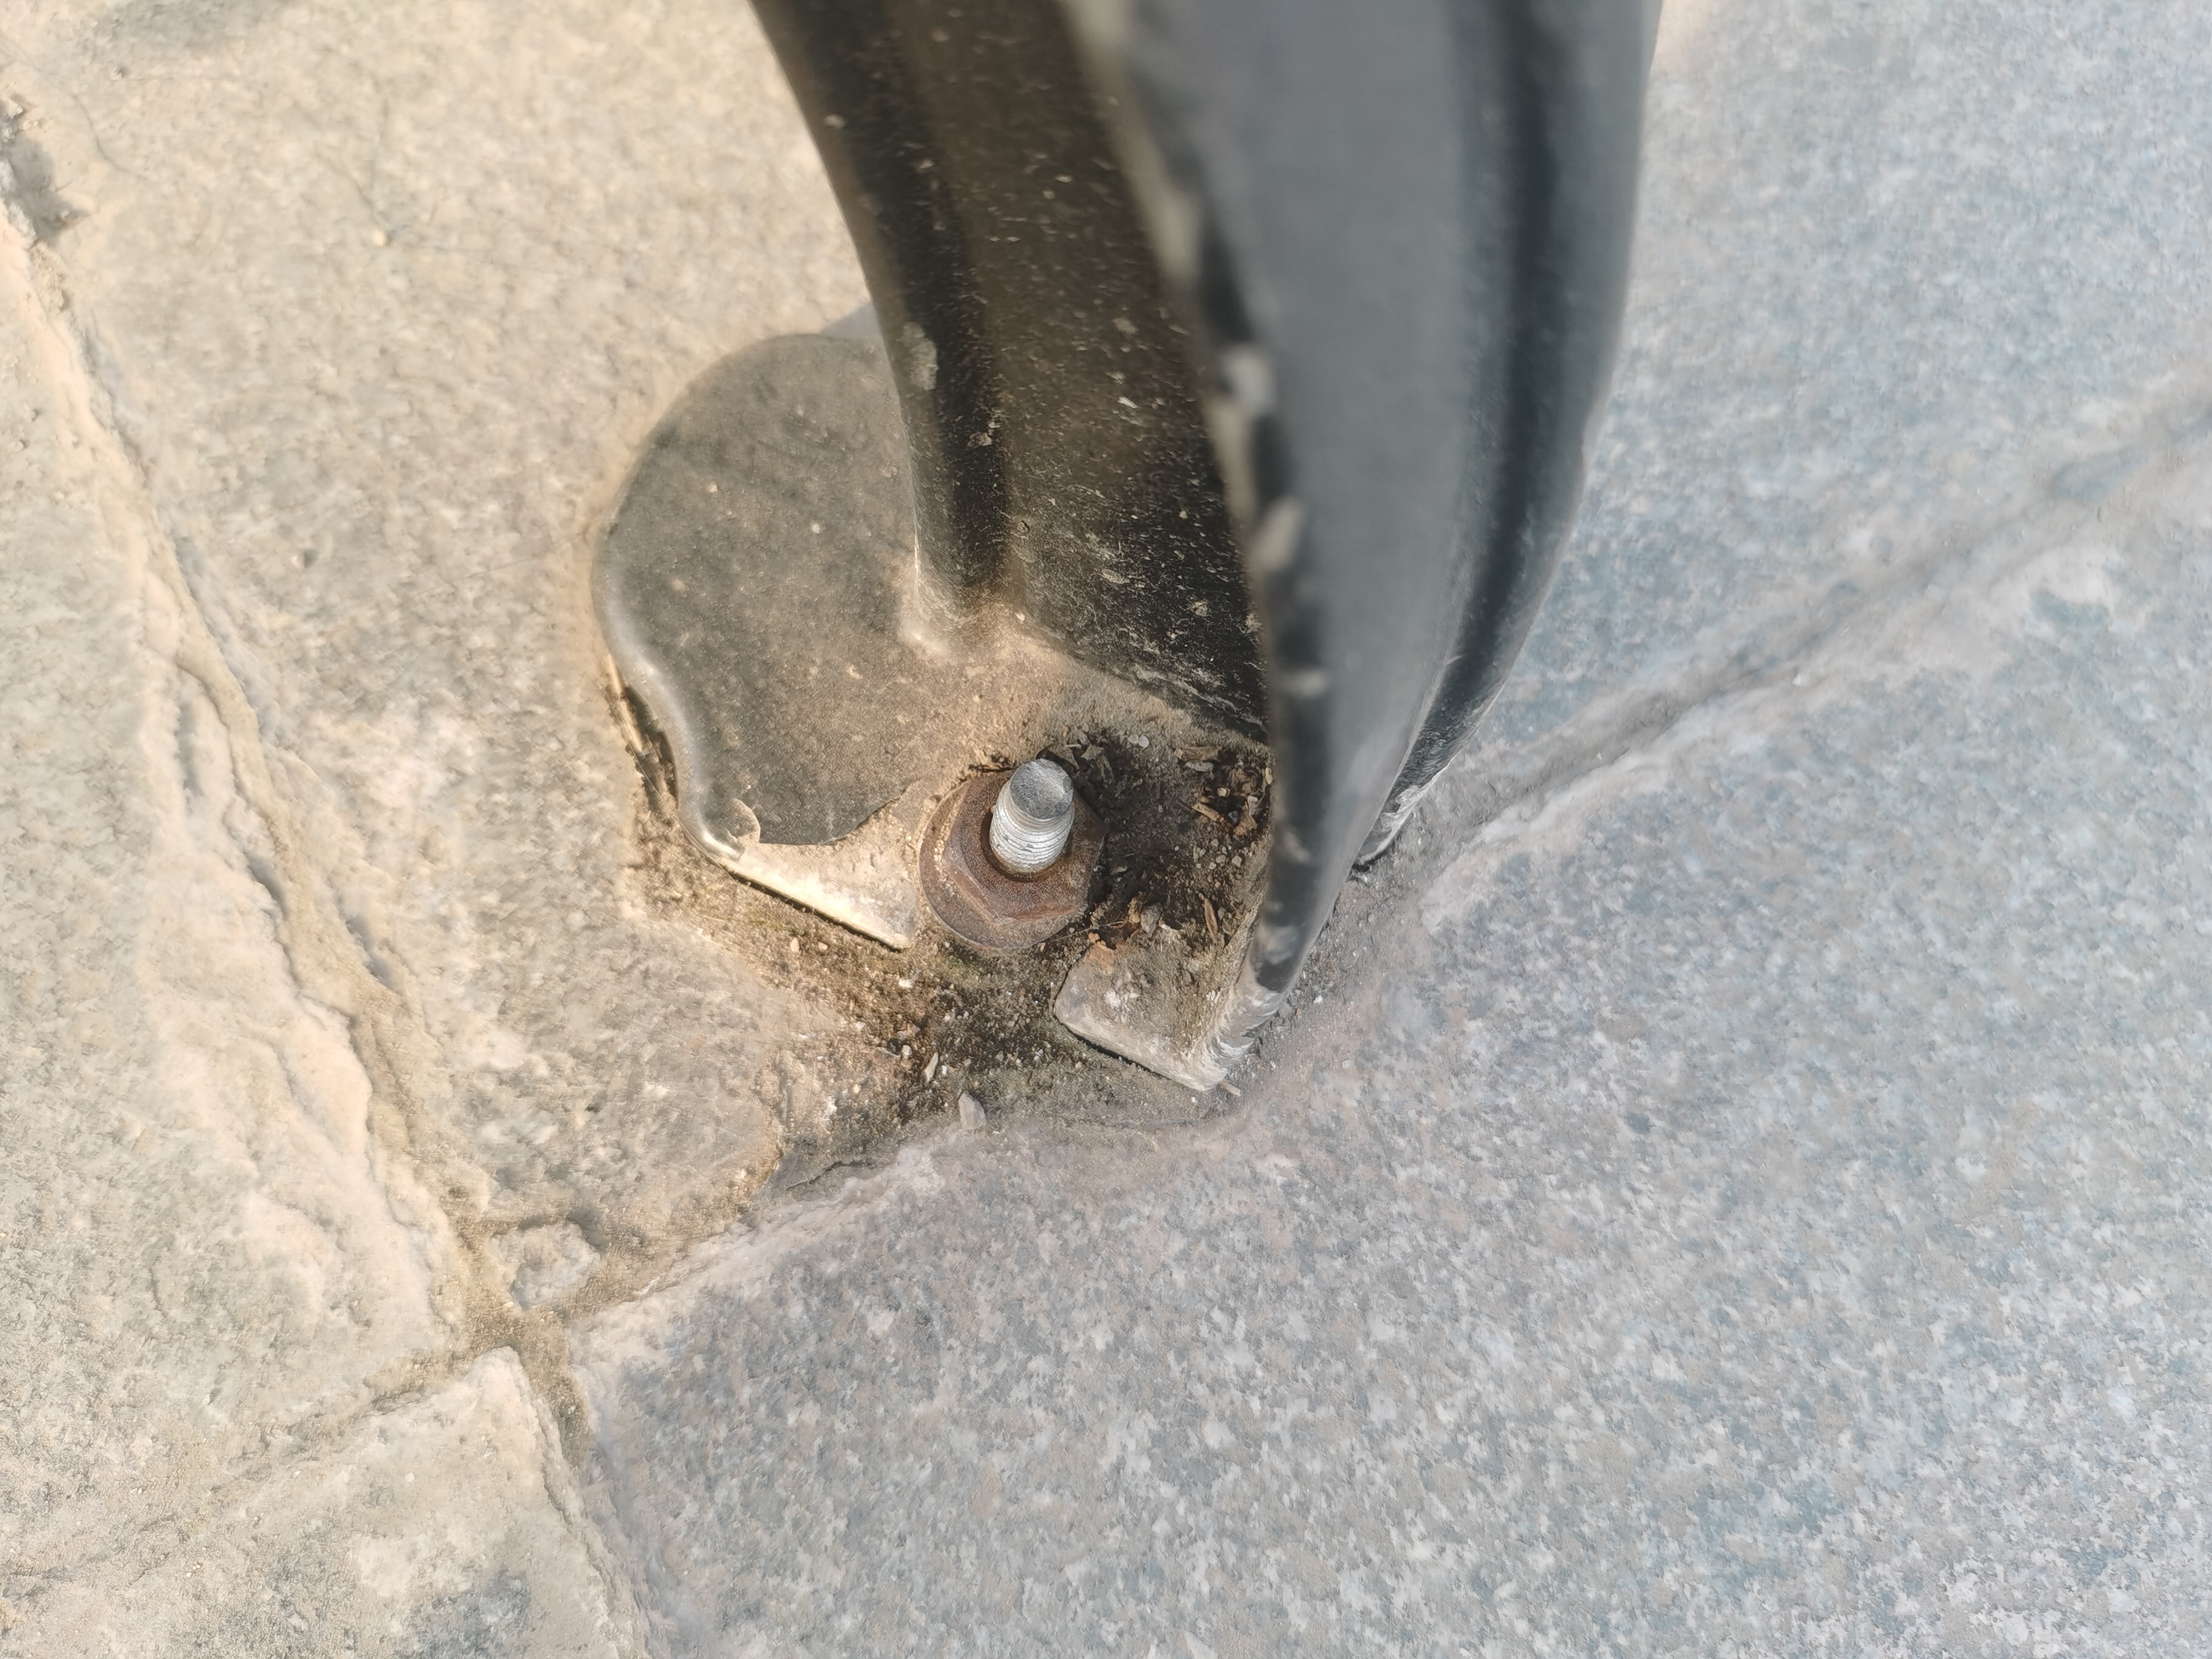bolt_b: (928, 758, 1115, 931)
